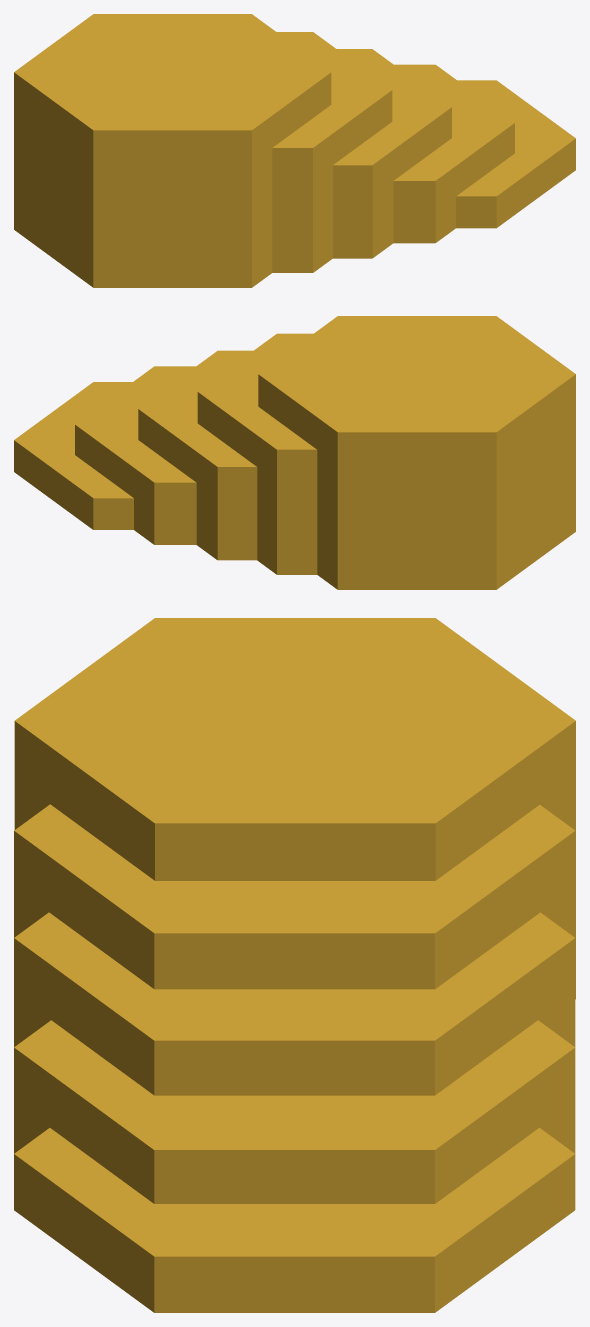
Rendered from Steps.fbx.
3 views of the same model, one above another, from view 1: azimuth 30°, elevation 25°; view 2: azimuth 150°, elevation 25°; view 3: azimuth 270°, elevation 25° (orthographic). The views are drawn at different scales.
Visible parts, largest first — view 1: Step 1, Step 2, Step 3, Step 4, Step 5; view 2: Step 1, Step 2, Step 3, Step 4, Step 5; view 3: Step 1, Step 2, Step 4, Step 3, Step 5.
Part boxes in pixels (x1,y1,x2,y2): Step 1: (14, 14, 331, 287); Step 2: (272, 32, 392, 272); Step 3: (333, 49, 451, 258); Step 4: (393, 64, 514, 243); Step 5: (456, 80, 575, 228); Step 1: (258, 316, 575, 589); Step 2: (197, 333, 317, 574); Step 3: (138, 350, 257, 560); Step 4: (75, 366, 196, 544); Step 5: (14, 382, 133, 529); Step 1: (14, 618, 575, 999); Step 2: (14, 804, 575, 989); Step 4: (14, 1020, 575, 1203); Step 3: (14, 912, 575, 1095); Step 5: (14, 1128, 575, 1312).
Size of the model in its own units: 183 by 100 by 322.
